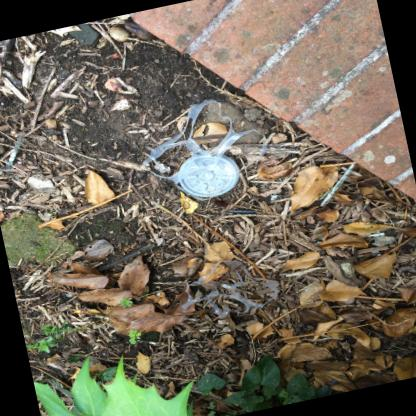Metal: (152, 158, 169, 172)
Plastic: (140, 98, 265, 199), (180, 259, 278, 316), (177, 151, 238, 196), (189, 101, 229, 151), (318, 163, 355, 206), (200, 260, 239, 284), (233, 281, 273, 303), (4, 130, 24, 167), (186, 282, 215, 299), (360, 231, 383, 237)
Waste: (95, 242, 154, 271), (228, 207, 254, 213)
